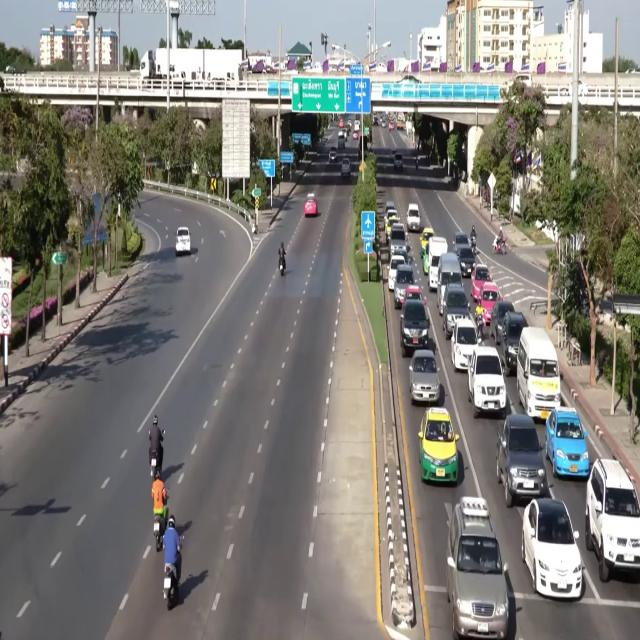car: (446, 496, 512, 639), (585, 459, 639, 582), (521, 498, 582, 598), (496, 414, 549, 508), (545, 407, 589, 478), (419, 408, 458, 483), (468, 345, 506, 417), (496, 311, 525, 376), (400, 301, 429, 357), (409, 350, 440, 402), (442, 282, 469, 339), (451, 317, 477, 371), (437, 272, 463, 316), (490, 300, 514, 344), (479, 281, 501, 325), (394, 264, 414, 309), (471, 264, 491, 301), (389, 223, 408, 255), (388, 255, 405, 290), (456, 246, 475, 277), (402, 285, 426, 305), (175, 227, 190, 255), (385, 209, 399, 238), (451, 232, 470, 253), (407, 203, 421, 231), (421, 228, 434, 255), (304, 193, 317, 216), (394, 249, 412, 264), (384, 200, 396, 216), (394, 152, 403, 171), (341, 159, 350, 178), (578, 80, 587, 96), (329, 148, 337, 162), (338, 119, 344, 129), (352, 131, 358, 140), (372, 116, 378, 125), (388, 121, 394, 129), (381, 120, 387, 128), (354, 120, 360, 128), (347, 120, 351, 127)
truck: (169, 48, 242, 81), (397, 112, 404, 130)
